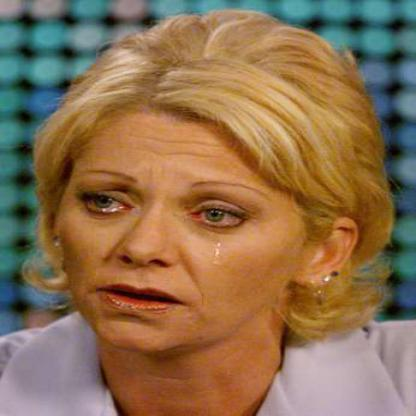face: (56, 55, 319, 364)
